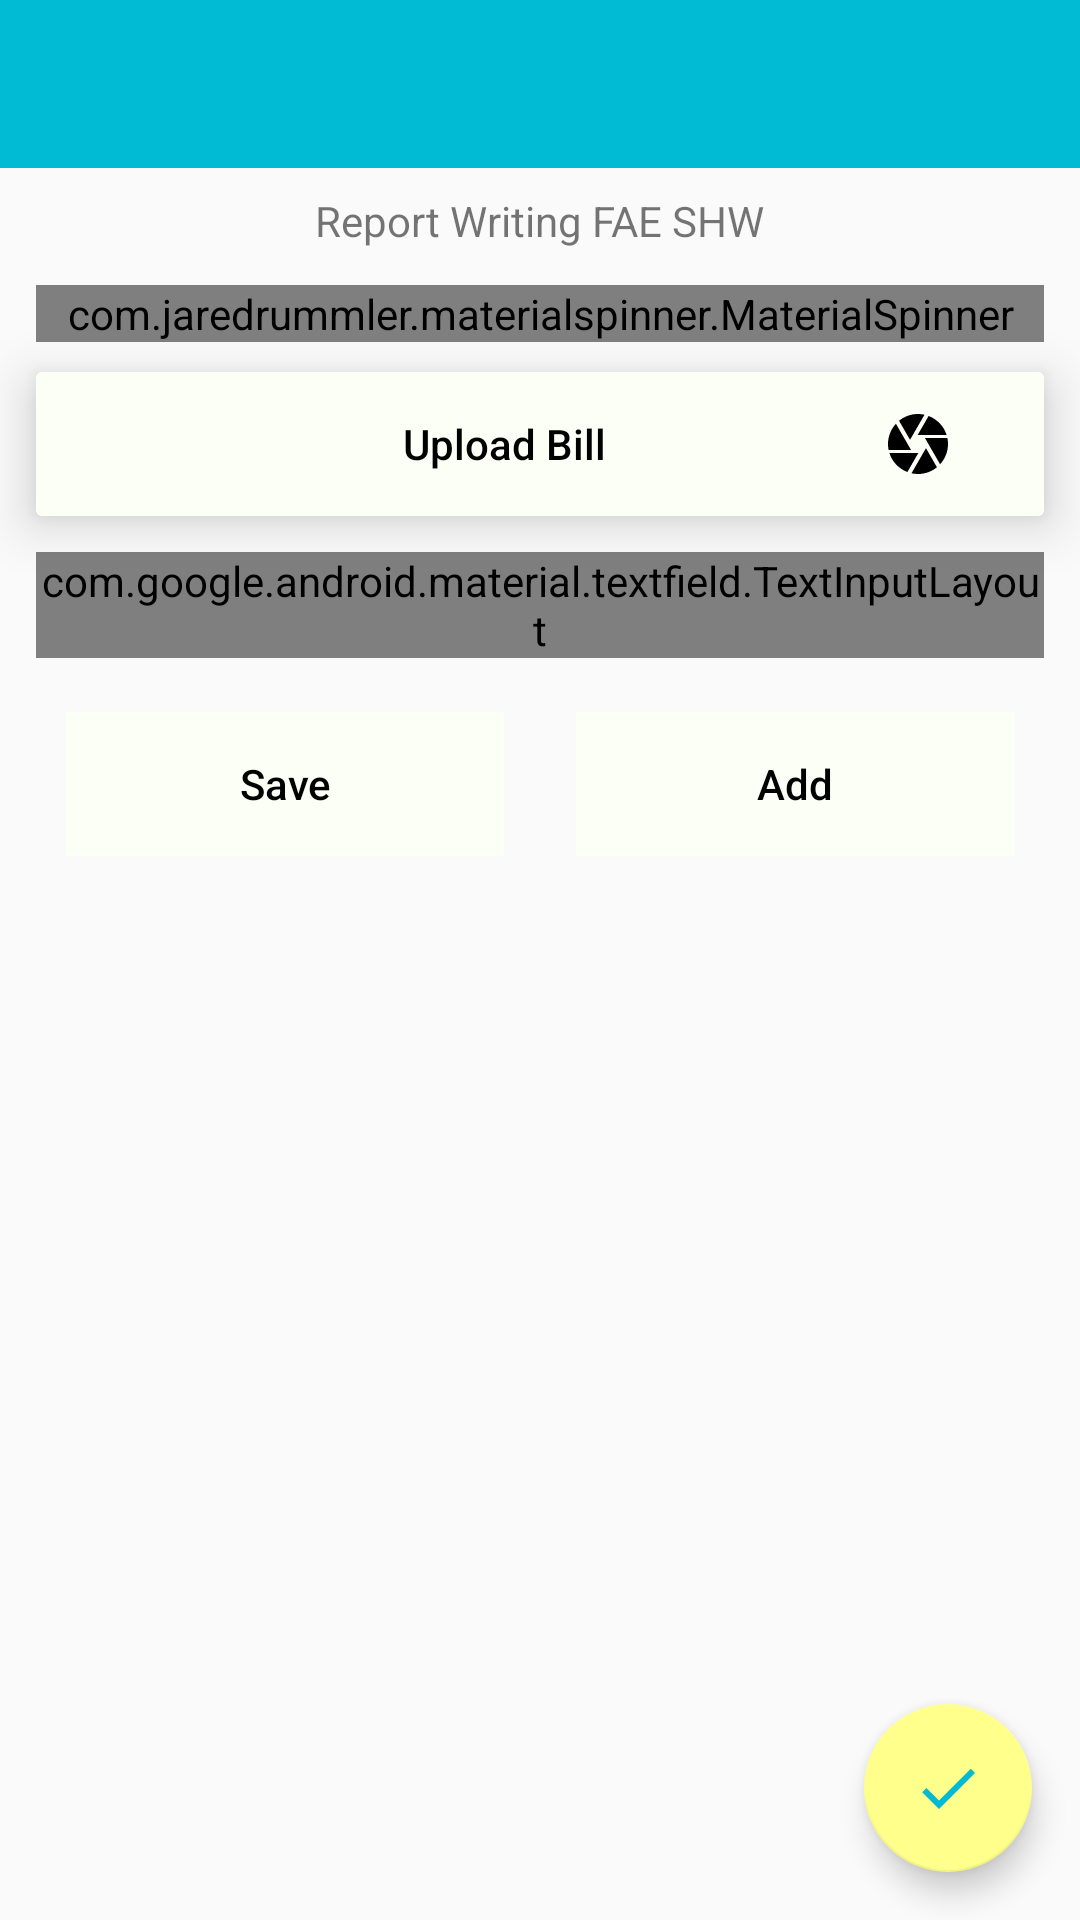

Locate icon controls on the screen. Image size 1080 × 1920, boxes as (x1, y1, x2, y2).
done: (864, 1704, 1032, 1872)
